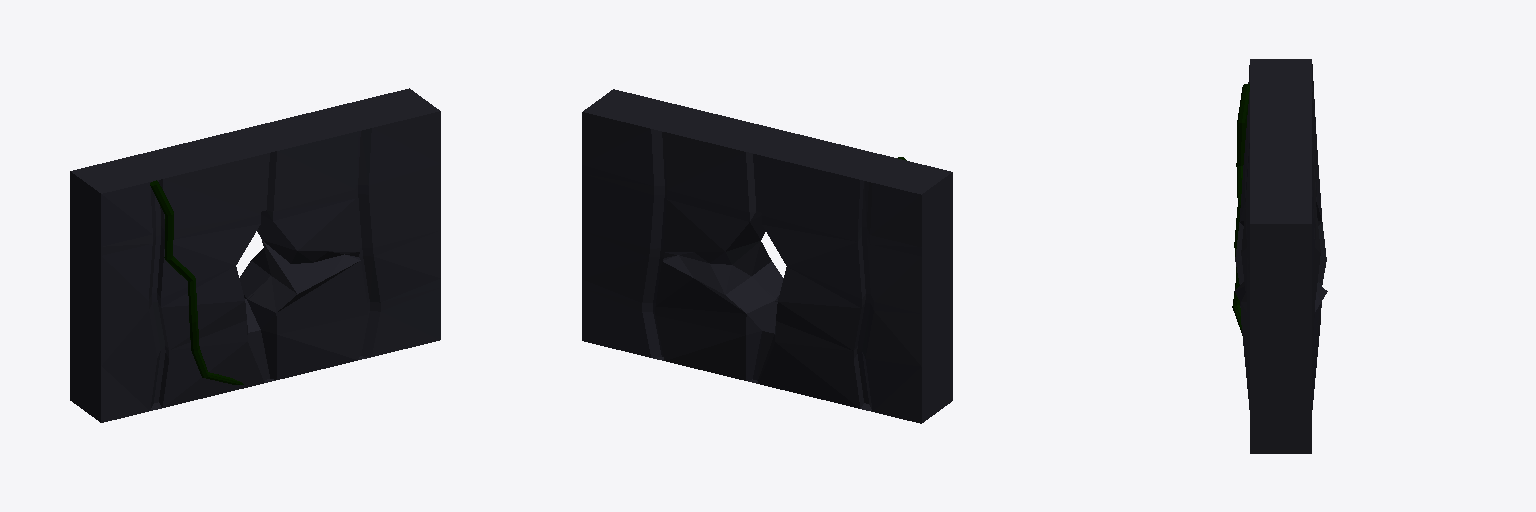
File: Wall_hole.obj
3 views of the same model, side by side, from view 1: azimuth 30°, elevation 25°; view 2: azimuth 150°, elevation 25°; view 3: azimuth 270°, elevation 25° (orthographic).
Visible parts, largest first — view 1: Cube.001, Cube.003; view 2: Cube.001; view 3: Cube.001, Cube.003.
Boxes of the visible parts, x1,y1,x2,y2 form: Cube.001: [70, 88, 440, 422]; Cube.003: [150, 180, 243, 384]; Cube.001: [582, 89, 952, 423]; Cube.001: [1234, 59, 1327, 453]; Cube.003: [1232, 84, 1249, 335].
Size of the model in its own units: 6.28 by 4.06 by 1.53.